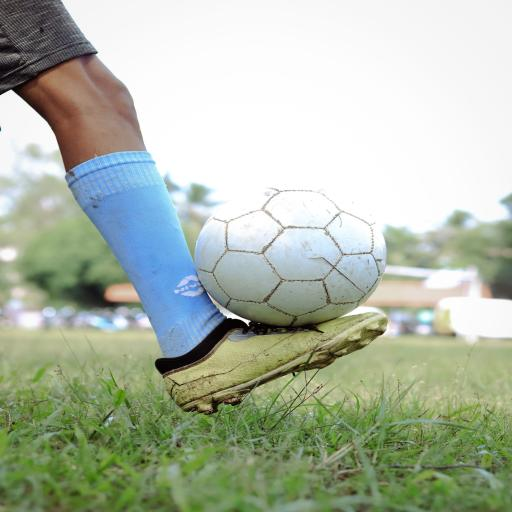shoe: (156, 313, 387, 413)
